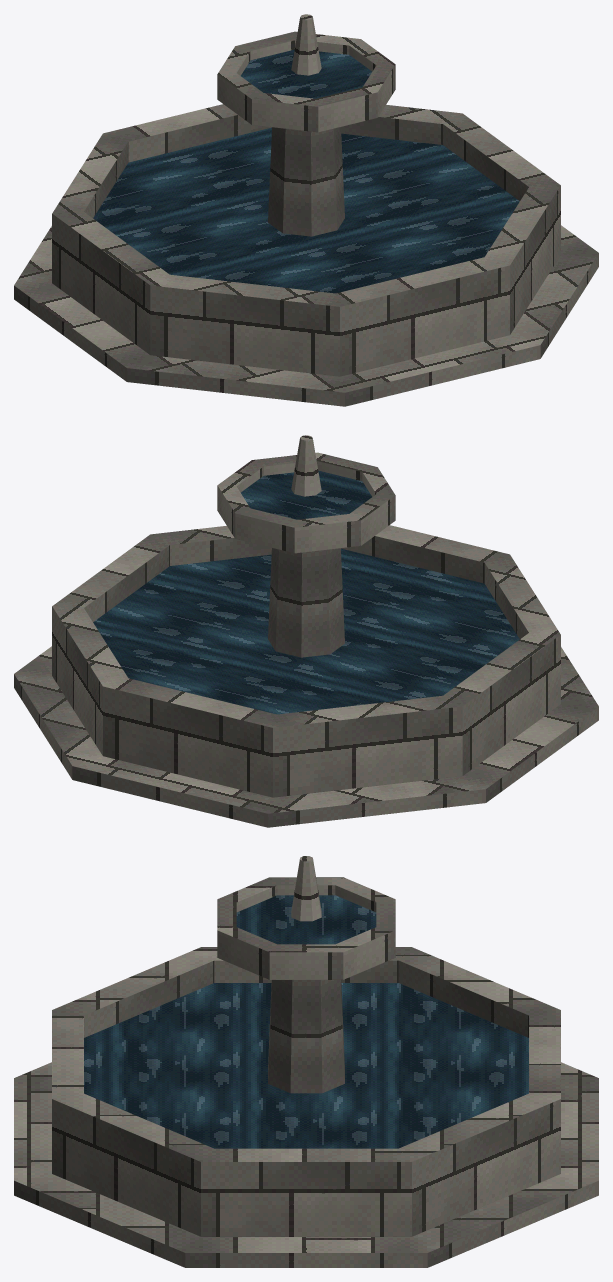
Rendered from fuente.obj.
3 renders of one model, top to bottom at view 1: azimuth 30°, elevation 25°; view 2: azimuth 150°, elevation 25°; view 3: azimuth 270°, elevation 25°, orthographic. The views are drawn at different scales.
Visible parts, largest first — view 1: fuente; view 2: fuente; view 3: fuente.
Part boxes in pixels (x1,y1,x2,y2): fuente: [14, 14, 598, 406]; fuente: [14, 435, 598, 827]; fuente: [14, 856, 598, 1267].
Size of the model in its own units: 4.25 by 2.29 by 4.25.
Materials: 2 (2 with a texture image).
